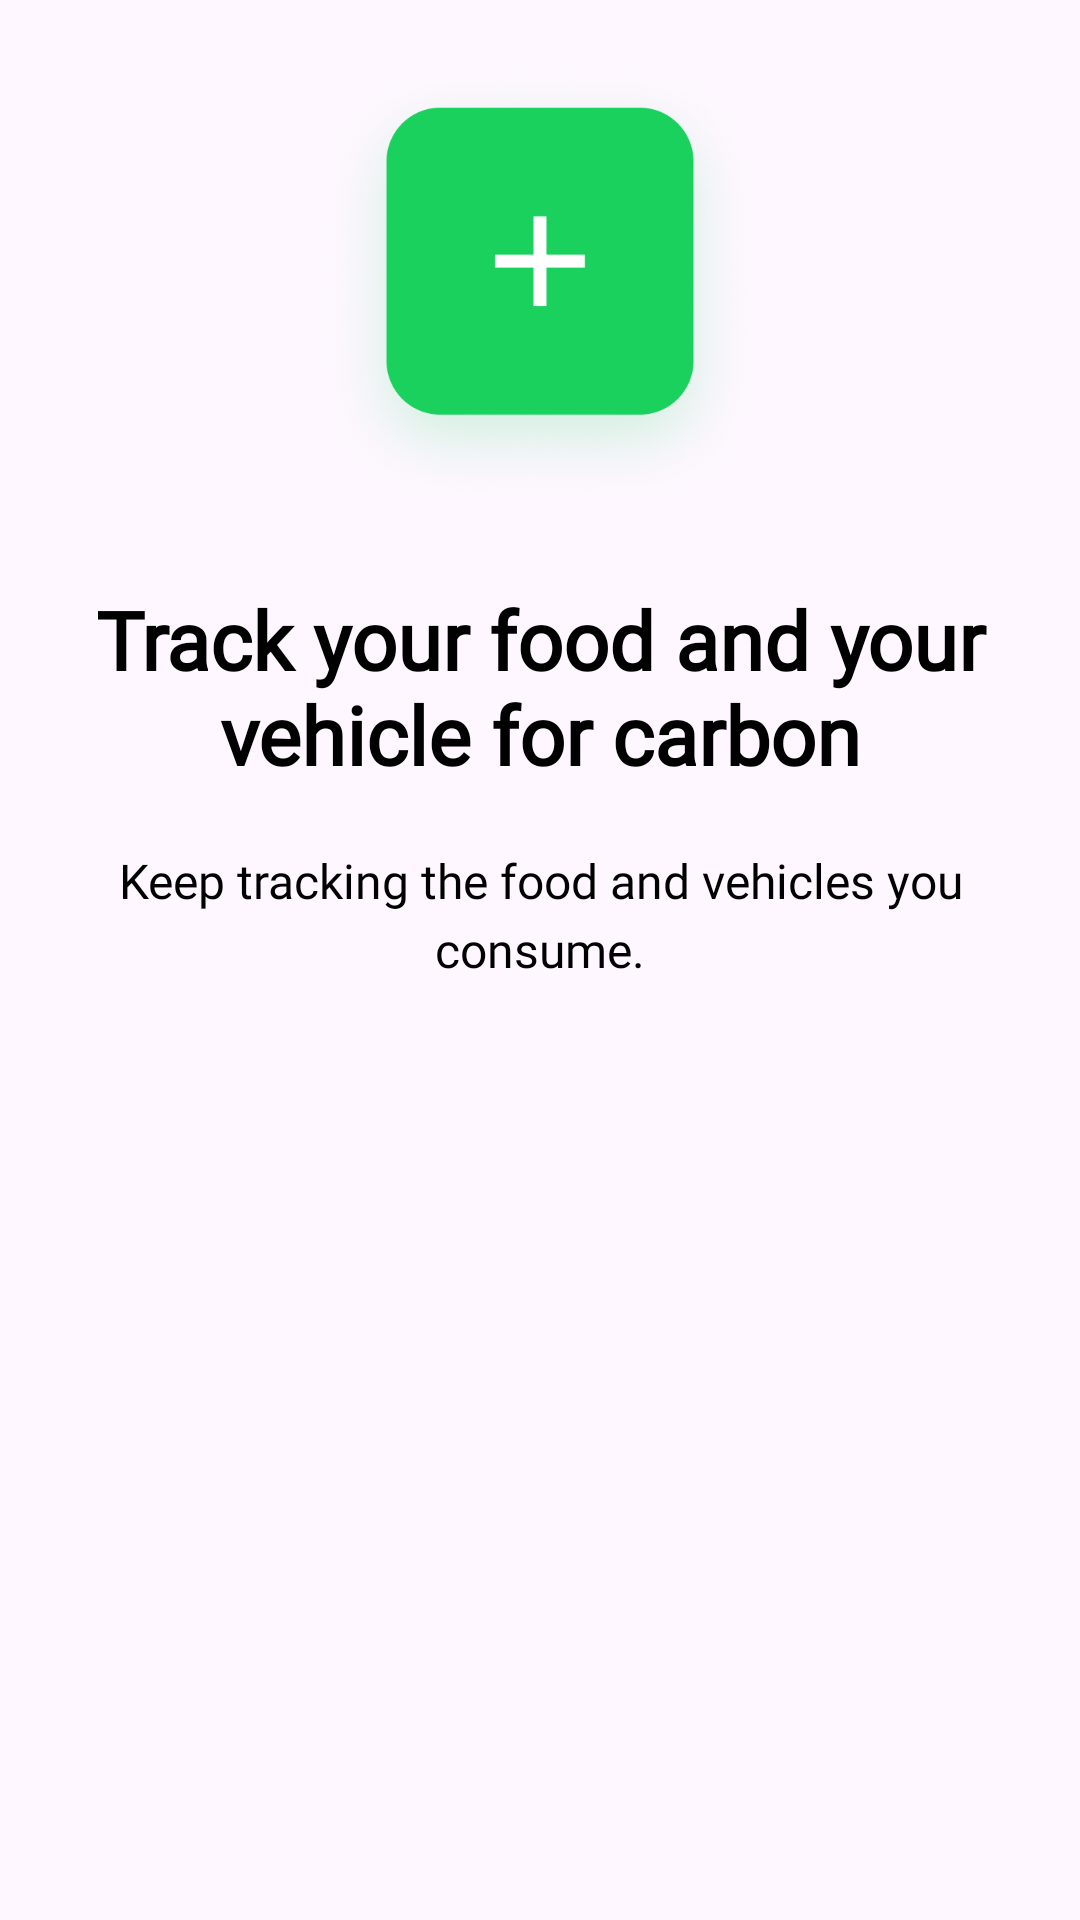

Icons on this 1080x1920 Android screen, each with the point to tap as [x,y]:
maskot question add: [540,272]
